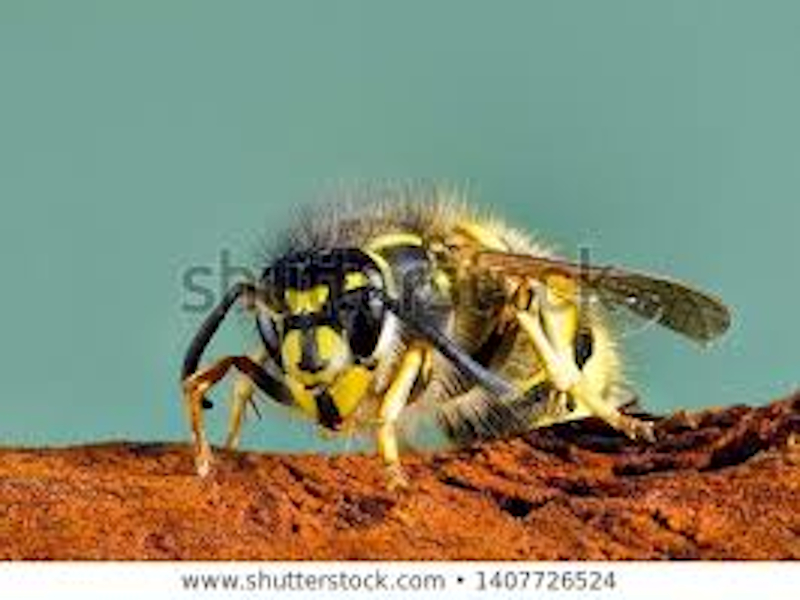chax: (171, 169, 754, 484)
